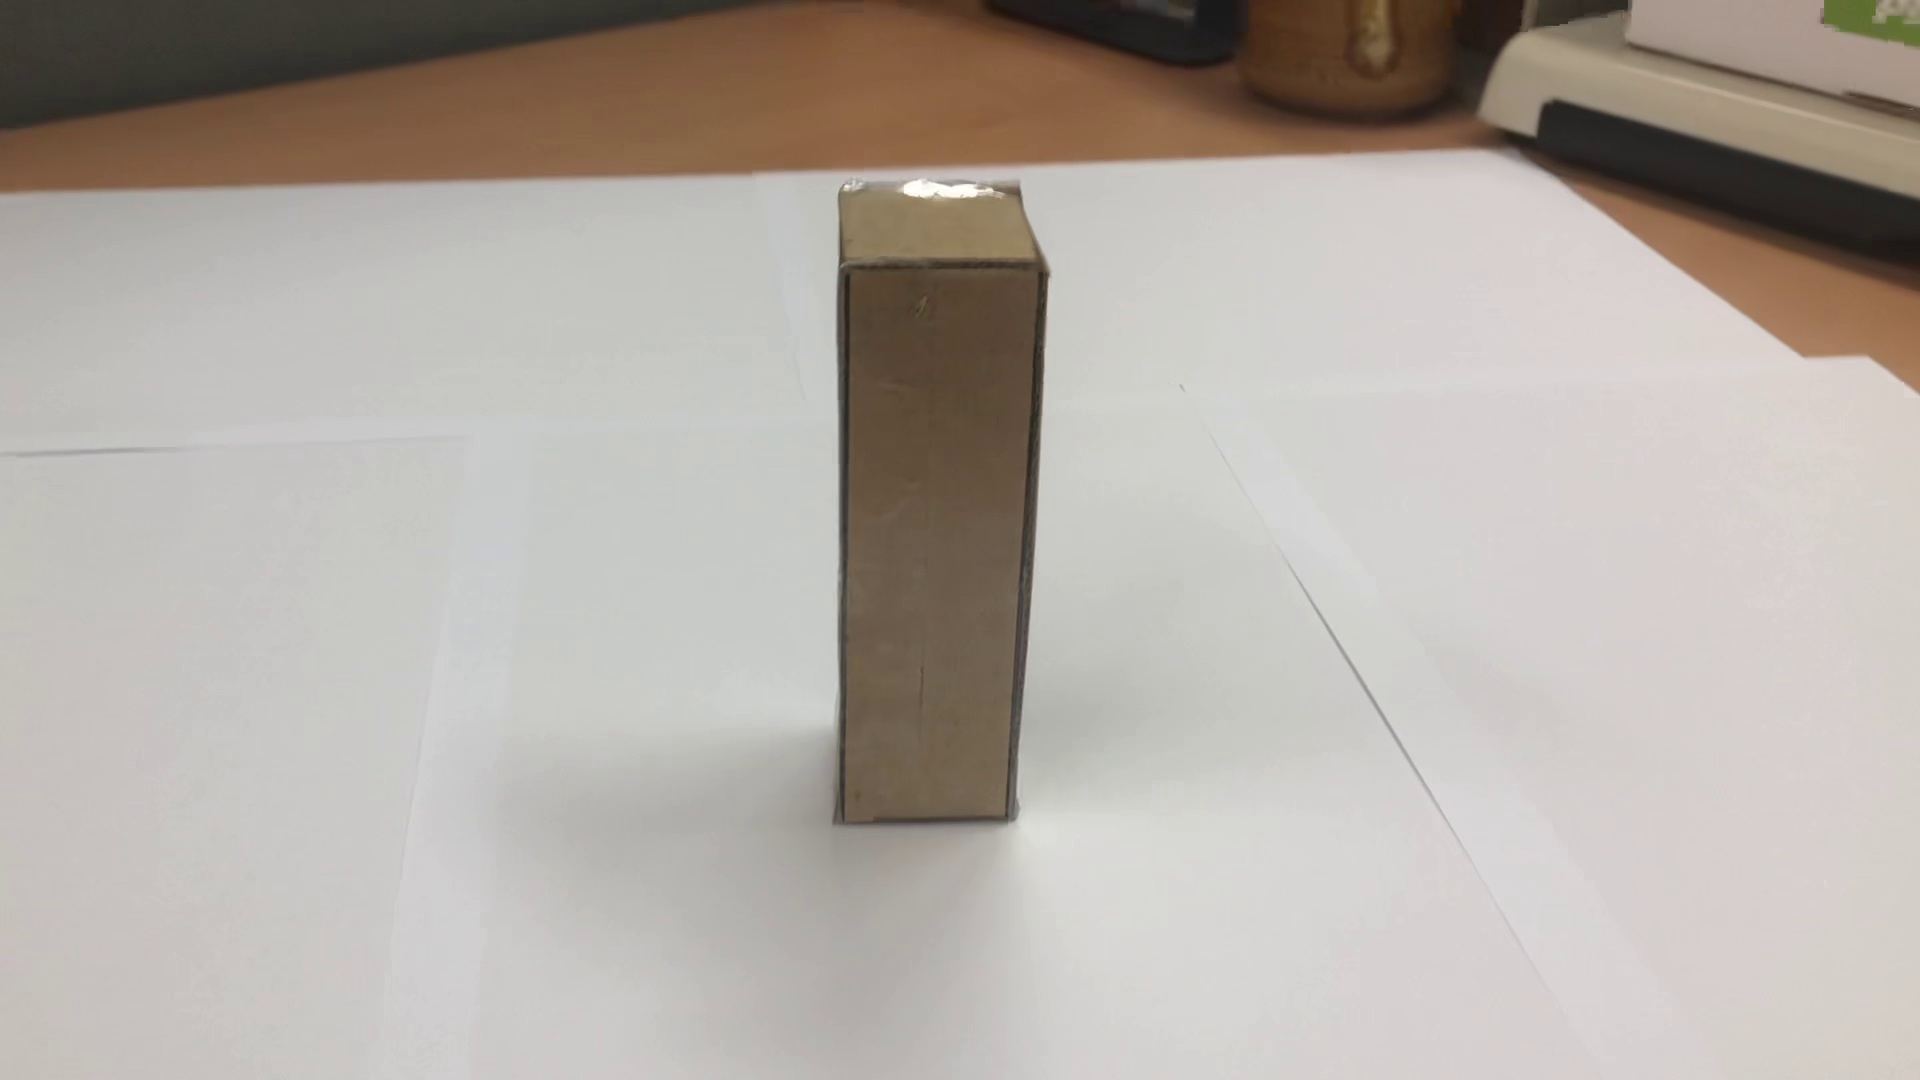box: (818, 177, 1047, 843)
